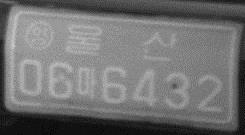0: (18, 57, 44, 96)
2: (195, 73, 225, 113)
3: (163, 70, 189, 110)
4: (129, 67, 160, 108)
6: (47, 59, 74, 101), (101, 64, 128, 105)
마: (76, 64, 98, 101)
영: (24, 18, 56, 52)
울산_D: (64, 21, 178, 63)
